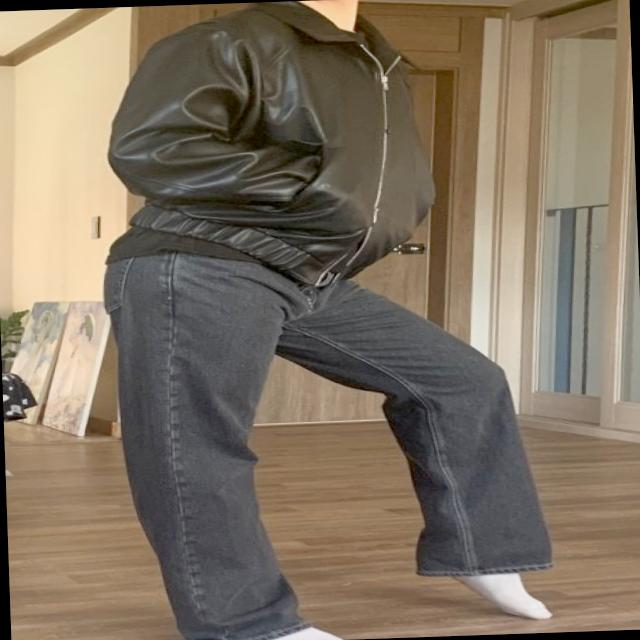denimpants: (104, 231, 555, 640)
jacket: (111, 0, 437, 290)
